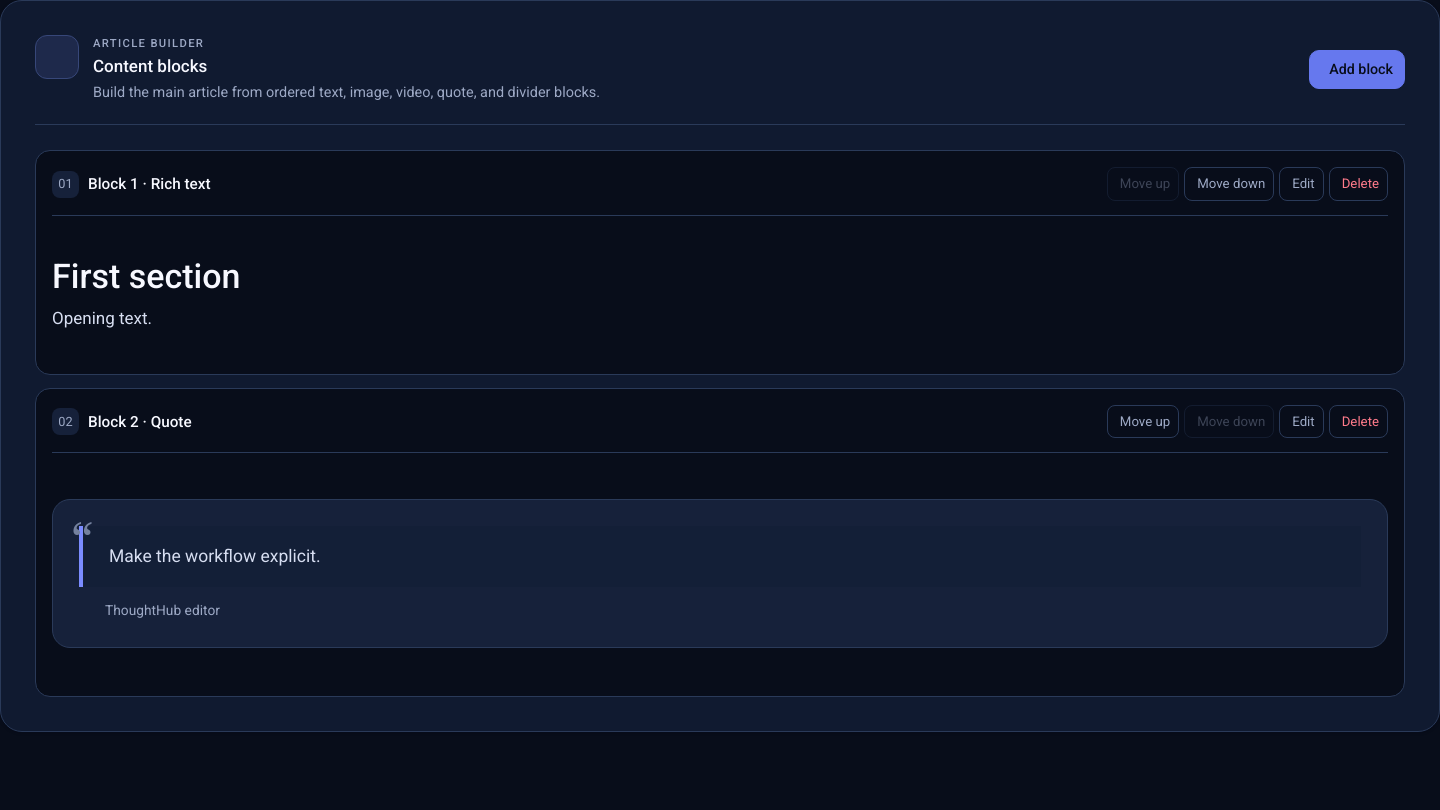
PostBlocksEditor › atomically moves a block and adopts server positions
expect the text "Make the workflow explicit." is shown: met, box [109, 546, 320, 566]
Click the button with aria-label "Move block 1 down": (1229, 184) [1184, 168, 1274, 201]
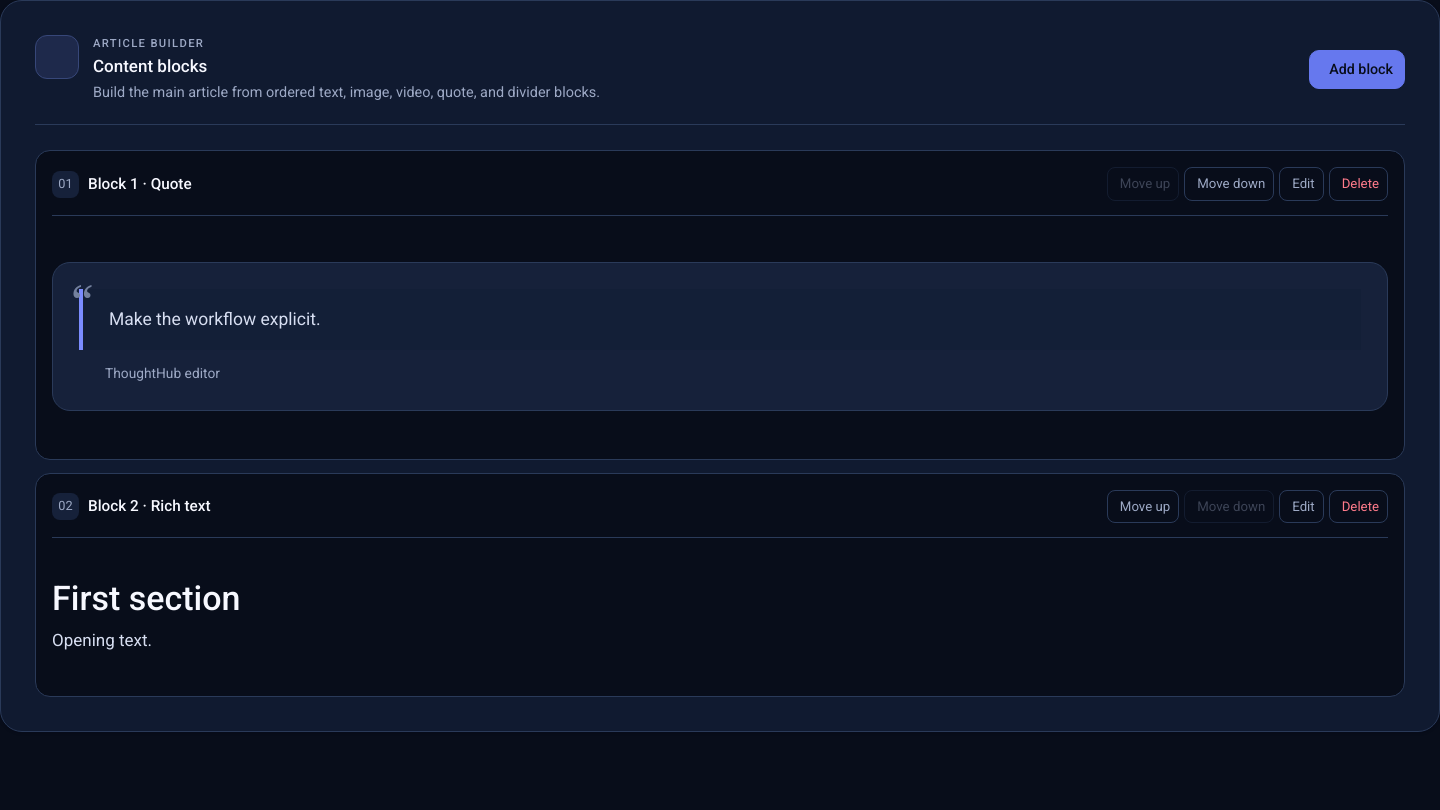
expect the heading "Block 1 · Quote" is shown: met, box [88, 175, 192, 193]
